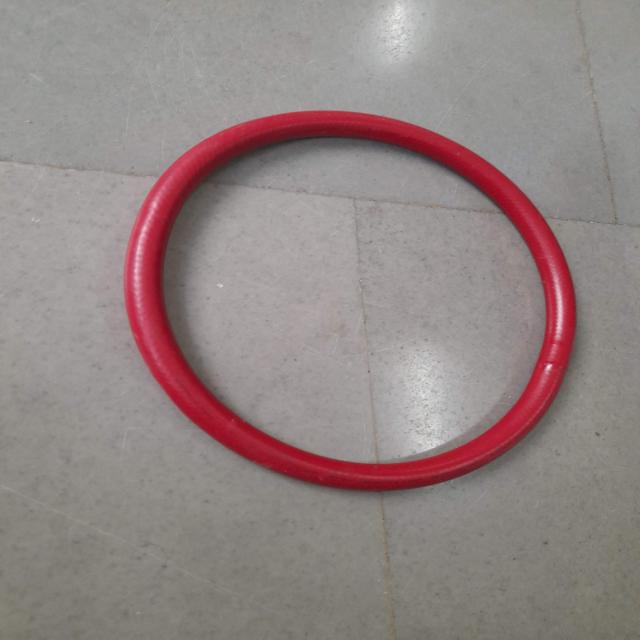daire: (128, 107, 577, 489)
